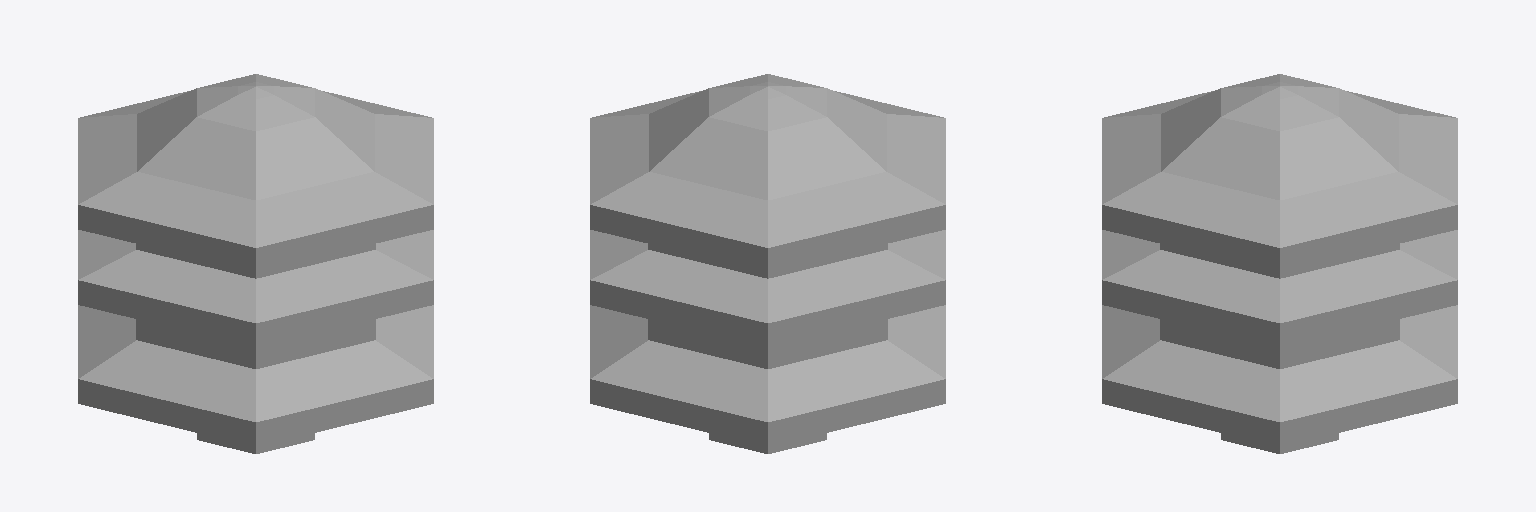
Rendered from bure5.obj.
The picture shows the model from 3 angles: view 1: azimuth 30°, elevation 25°; view 2: azimuth 150°, elevation 25°; view 3: azimuth 270°, elevation 25°; orthographic projection.
Parts seen in each view (by area): view 1: MSH_cylinder; view 2: MSH_cylinder; view 3: MSH_cylinder.
Part boxes in pixels (x1,y1,x2,y2): MSH_cylinder: (78, 74, 433, 453); MSH_cylinder: (590, 74, 945, 453); MSH_cylinder: (1102, 74, 1457, 453).
Size of the model in its own units: 4.17 by 3.8 by 3.61.